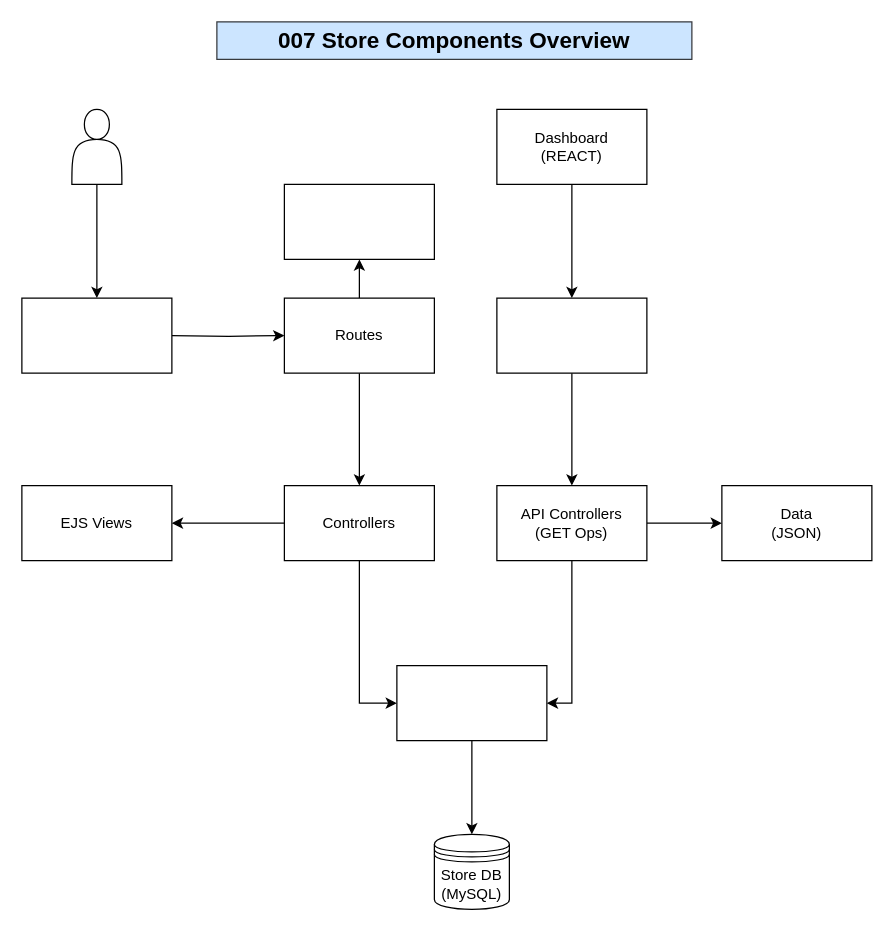
Some shapes in this 894 by 931 pixel diagram are drawn without their labels. The shapes that lost their labels are listed below. From the top down, each one's centre as x and y in pixels, then its label:
At point 358,221: "Middlewares (Session)".
At point 96,335: "App.js (Entry point)".
At point 571,335: "API Routes".
At point 471,702: "Entities (Sequilize)".
